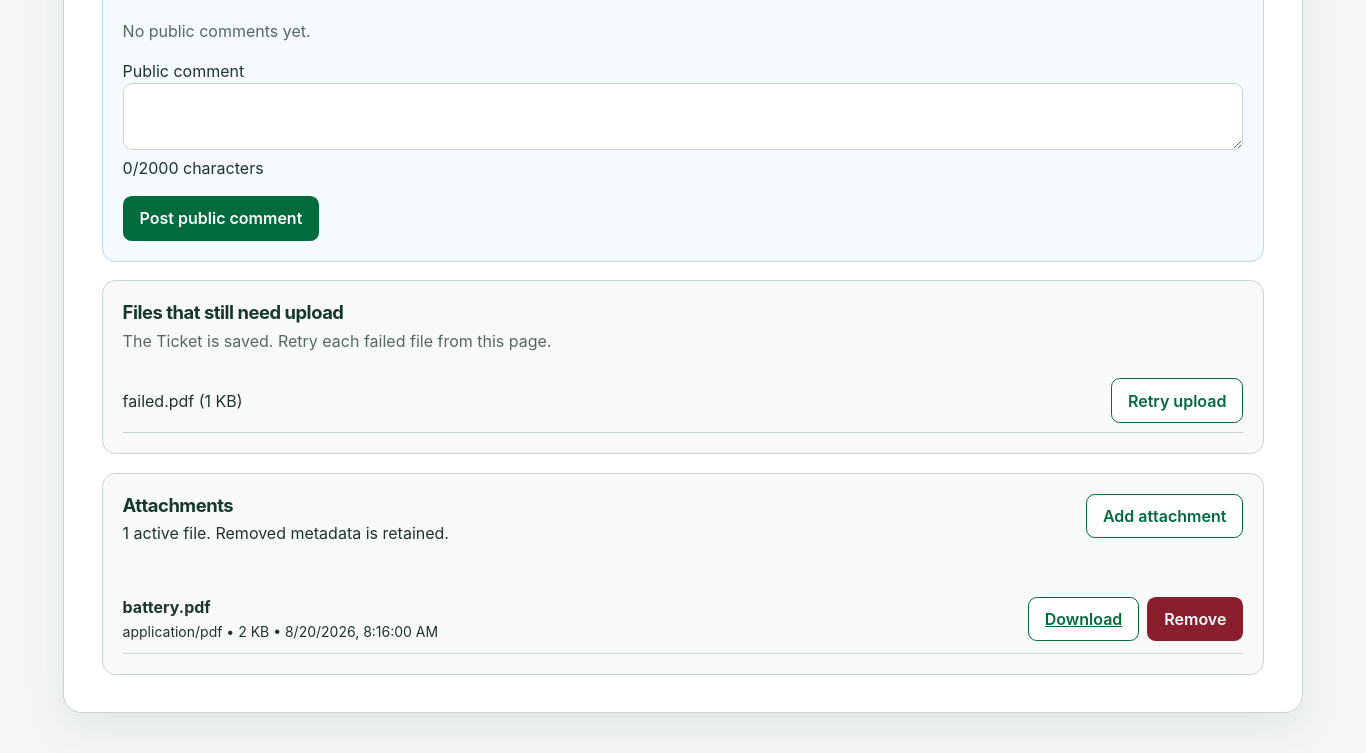
Test: Ticket Detail › retries one failed Create Ticket upload from Detail
This screenshot has width=1366, height=753.
(page scrolled)
Expected: the heading "Files that still need upload" is shown, [123,301,344,323]
What coordinates should you click on to do the following:
click the button "Retry upload"
I would click on:
 (1177, 401)
Its box is [1111,378,1243,423].
(page scrolled)
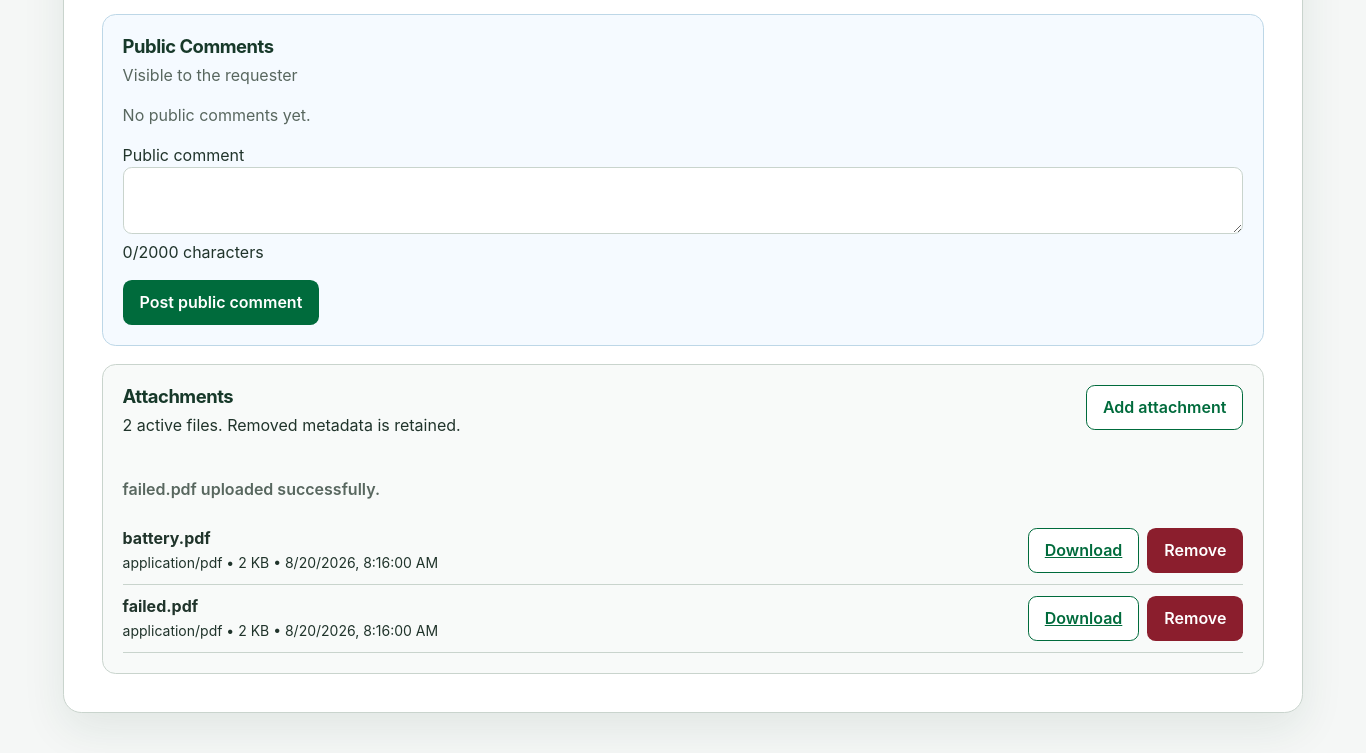
Expected: the text "failed.pdf uploaded successfully." is shown, [123,479,380,499]
